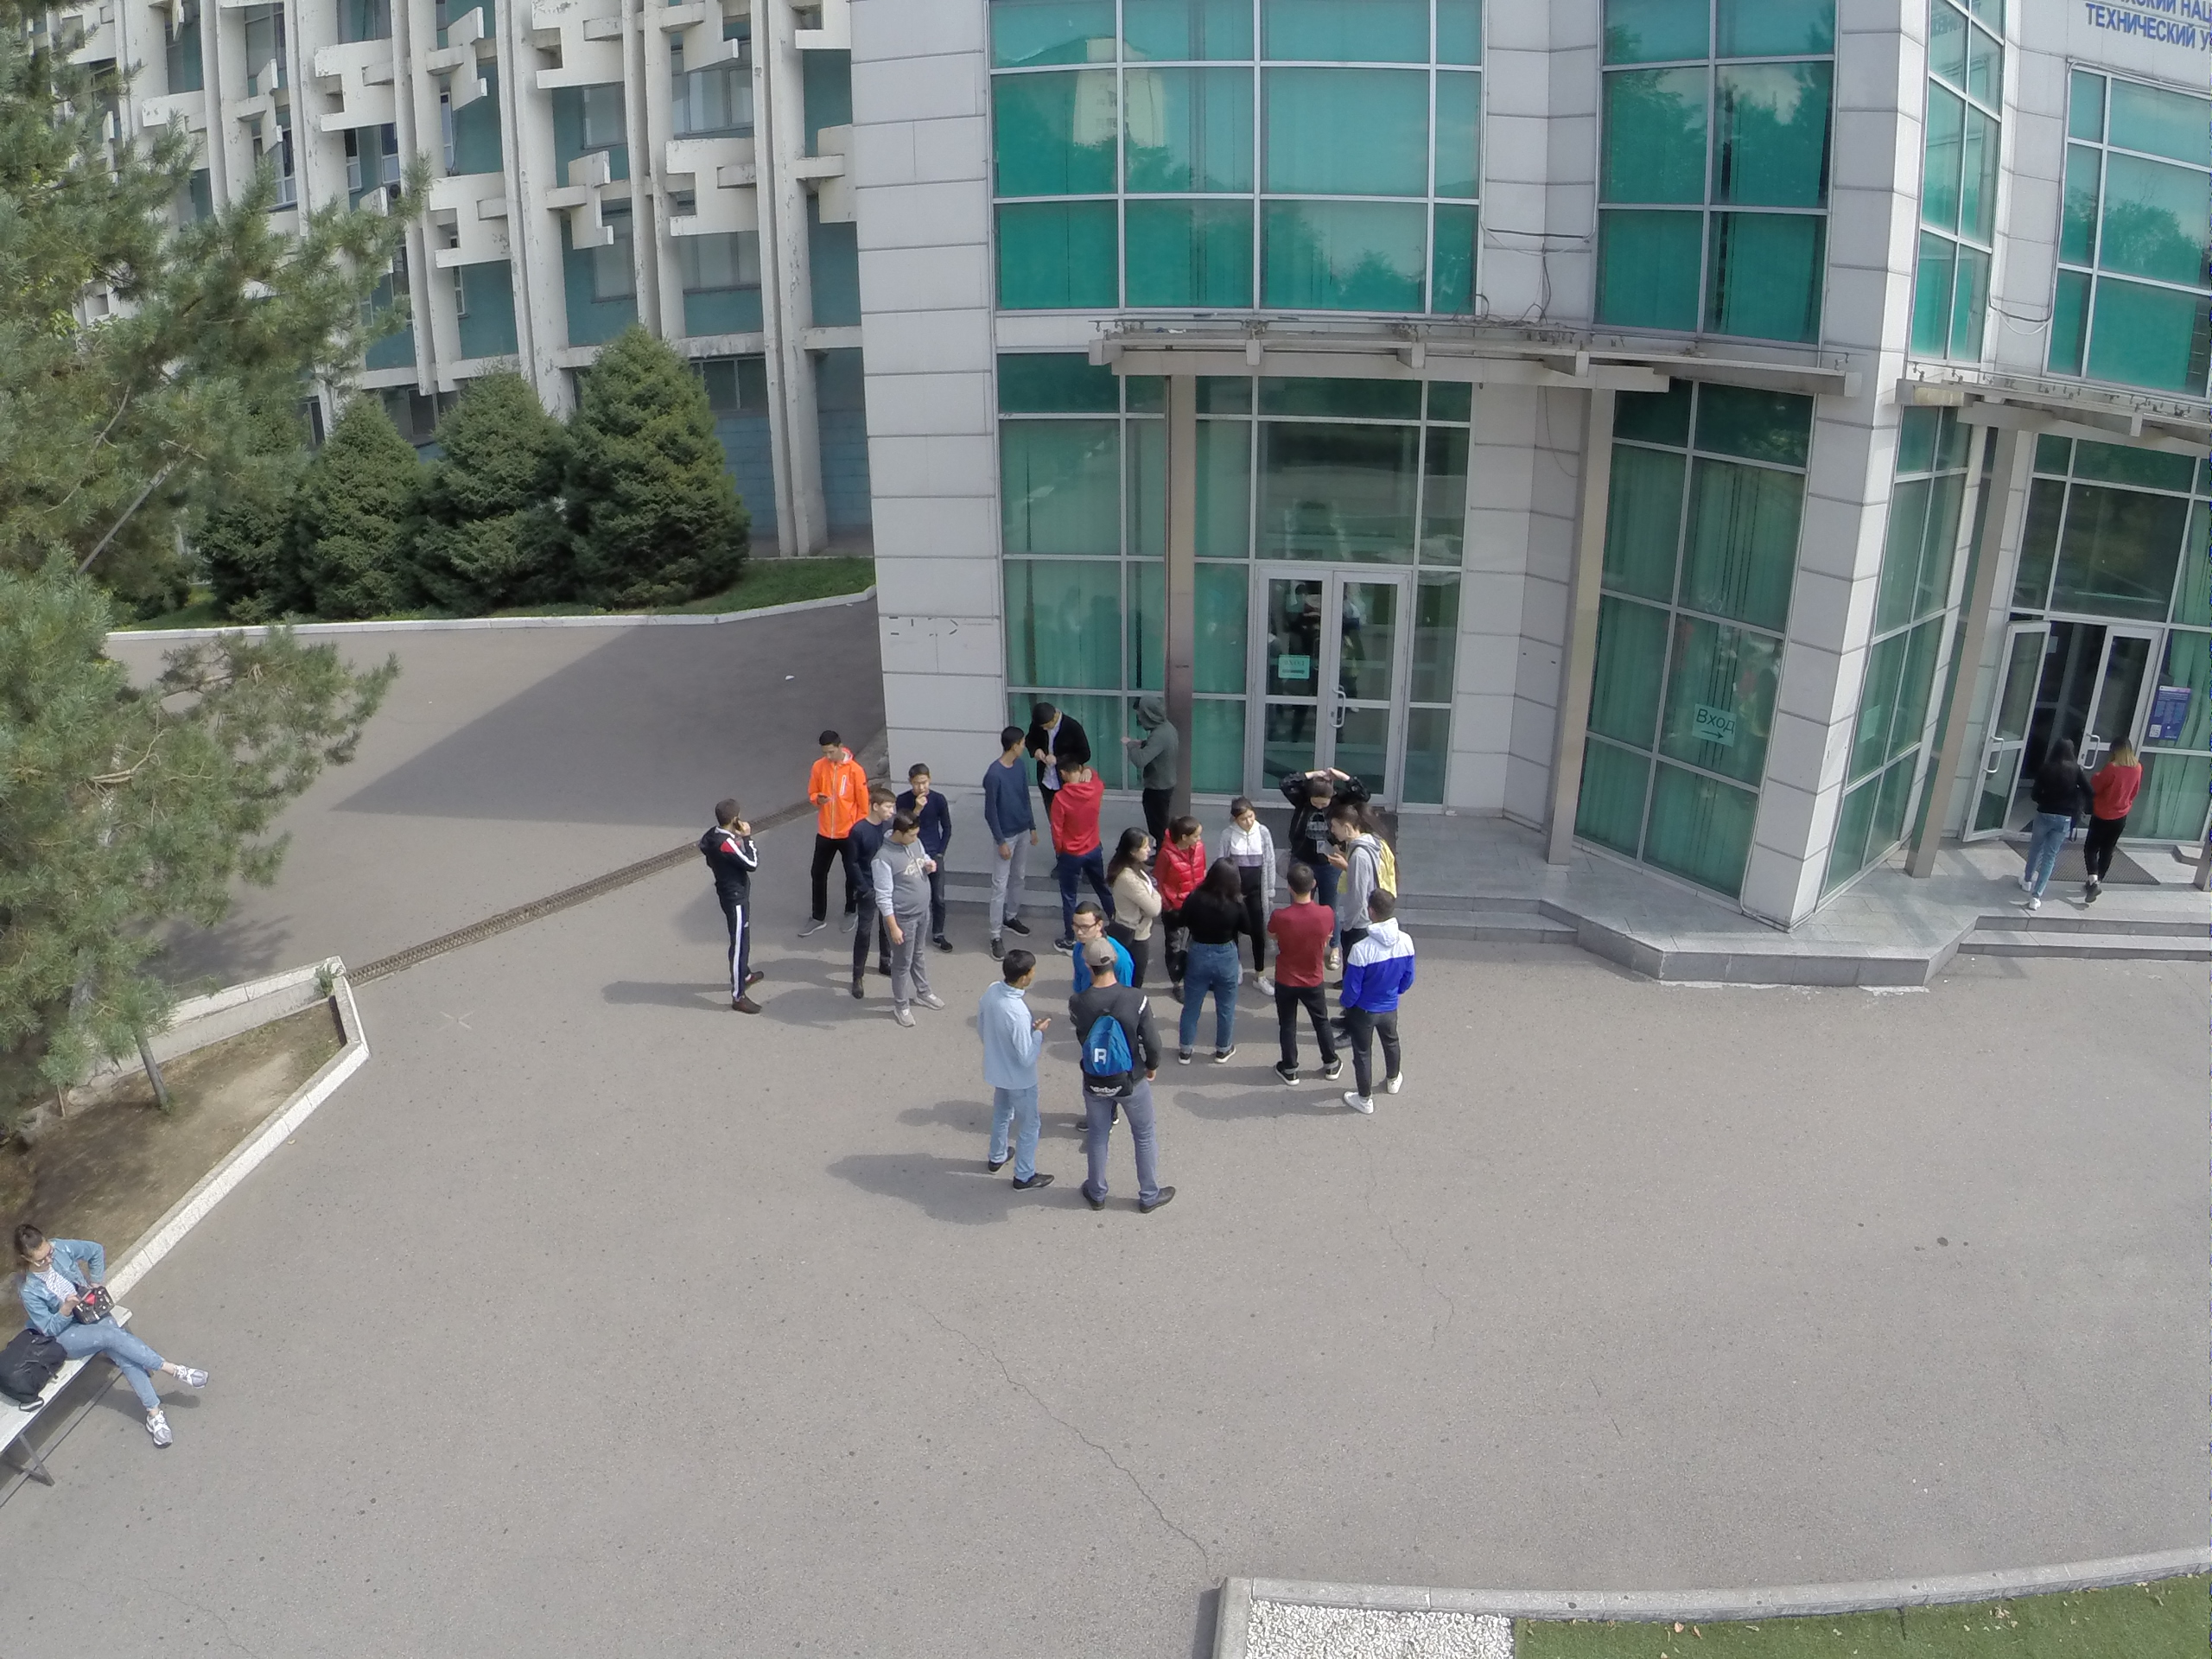person: (10, 1219, 213, 1454), (980, 938, 1058, 1196), (1270, 859, 1344, 1089), (1173, 859, 1249, 1070), (1346, 887, 1414, 1116), (699, 791, 766, 1016), (876, 808, 938, 1036), (800, 721, 861, 939), (980, 723, 1036, 957), (838, 785, 897, 1000), (894, 756, 955, 960), (1043, 753, 1116, 909), (2075, 734, 2141, 906), (2020, 734, 2081, 918), (1279, 763, 1366, 869), (1128, 690, 1180, 820), (1107, 824, 1160, 952), (1326, 800, 1395, 900), (1223, 794, 1279, 902), (1029, 698, 1094, 766), (1160, 812, 1205, 906)
